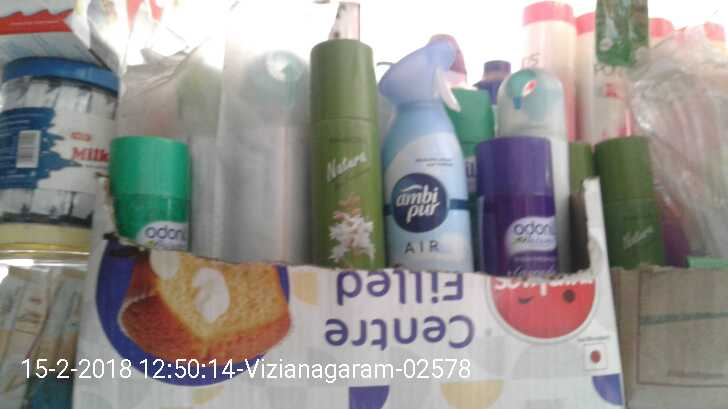ambipure: (373, 36, 479, 274)
